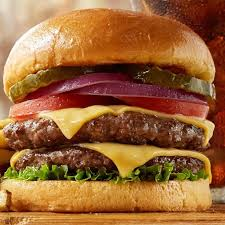hamburger: (2, 7, 216, 212)
